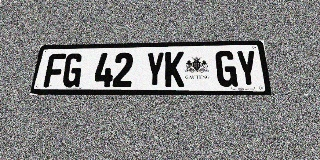2: (112, 52, 133, 87)
4: (93, 53, 115, 87)
F: (43, 54, 66, 87)
G: (215, 50, 238, 87), (61, 53, 84, 87)
K: (165, 51, 184, 87)
Y: (235, 50, 259, 87), (145, 52, 165, 87)
